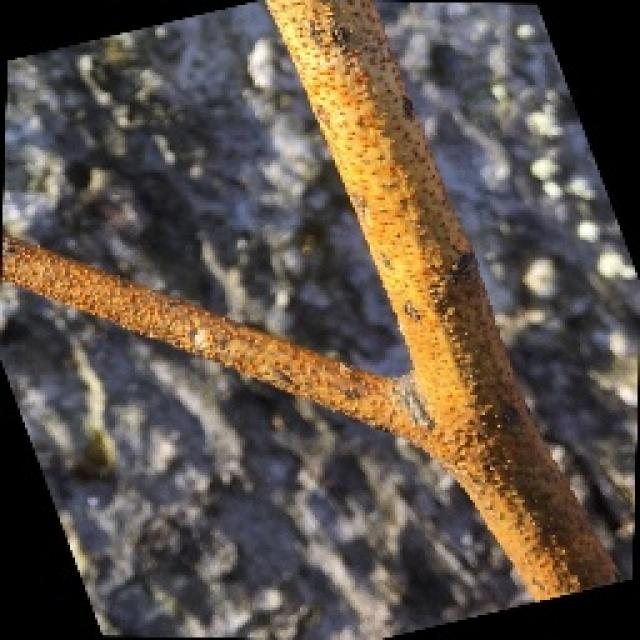Golden_canker: (0, 0, 625, 608)
